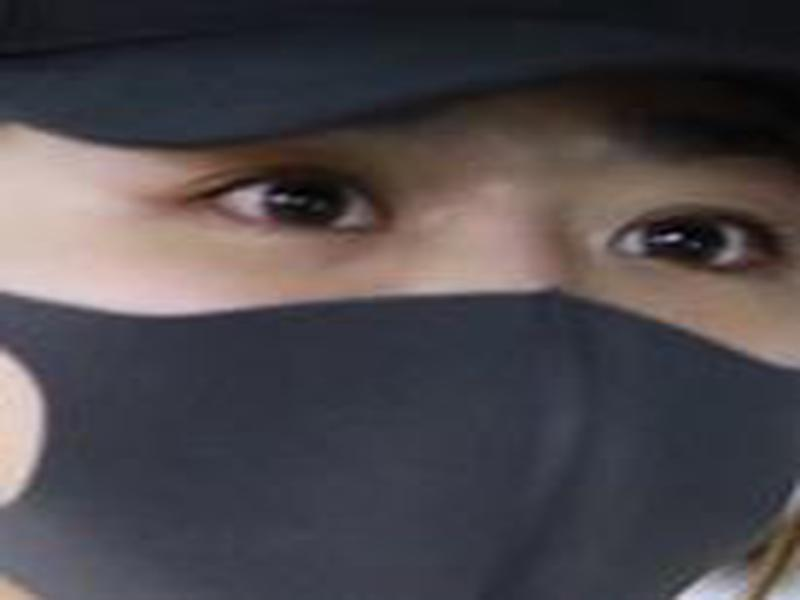with_mask: (1, 71, 800, 600)
